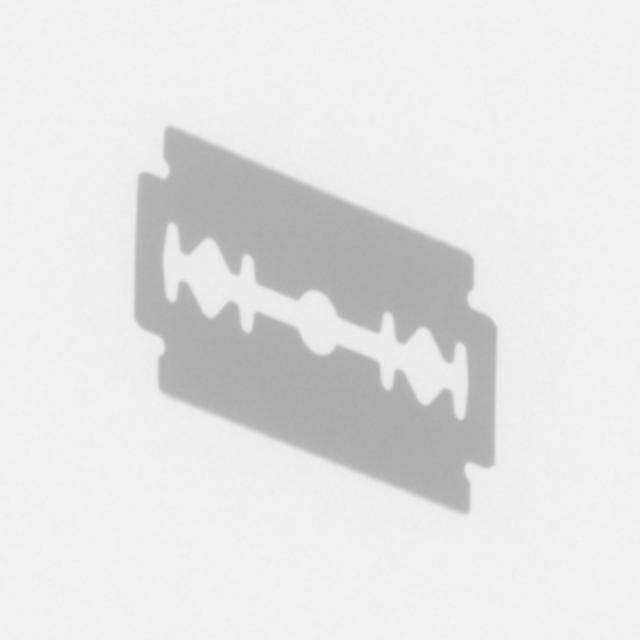razor: (132, 114, 513, 520)
